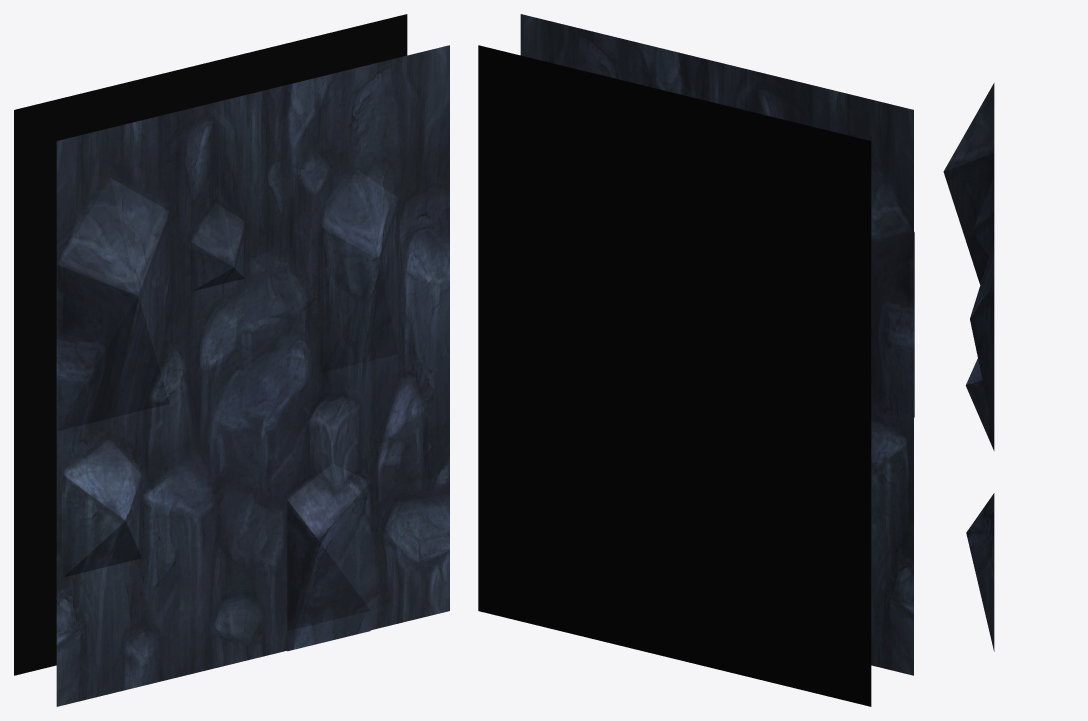
File: mine_wall_straight_01.fbx
3 views of the same model, side by side, from view 1: azimuth 30°, elevation 25°; view 2: azimuth 150°, elevation 25°; view 3: azimuth 270°, elevation 25° (orthographic). The views are drawn at different scales.
Visible parts, largest first — view 1: obj1; view 2: obj1; view 3: obj1.
Boxes of the visible parts, bbox=[...] form: obj1: bbox=[14, 14, 449, 706]; obj1: bbox=[478, 14, 914, 706]; obj1: bbox=[943, 83, 994, 651].
Bounding box in the file's own units: 4 × 5.5 × 1.25.
